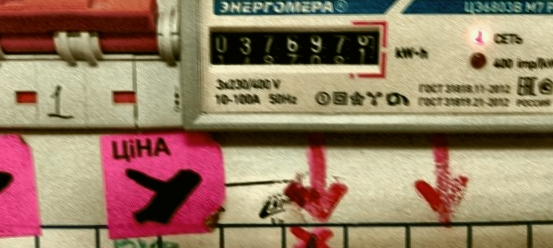0: (213, 33, 226, 53)
1: (355, 46, 366, 64)
3: (237, 35, 250, 55)
6: (284, 31, 297, 52)
7: (260, 32, 273, 53), (332, 32, 344, 54)
9: (308, 33, 320, 54)
screen: (199, 15, 390, 81)
